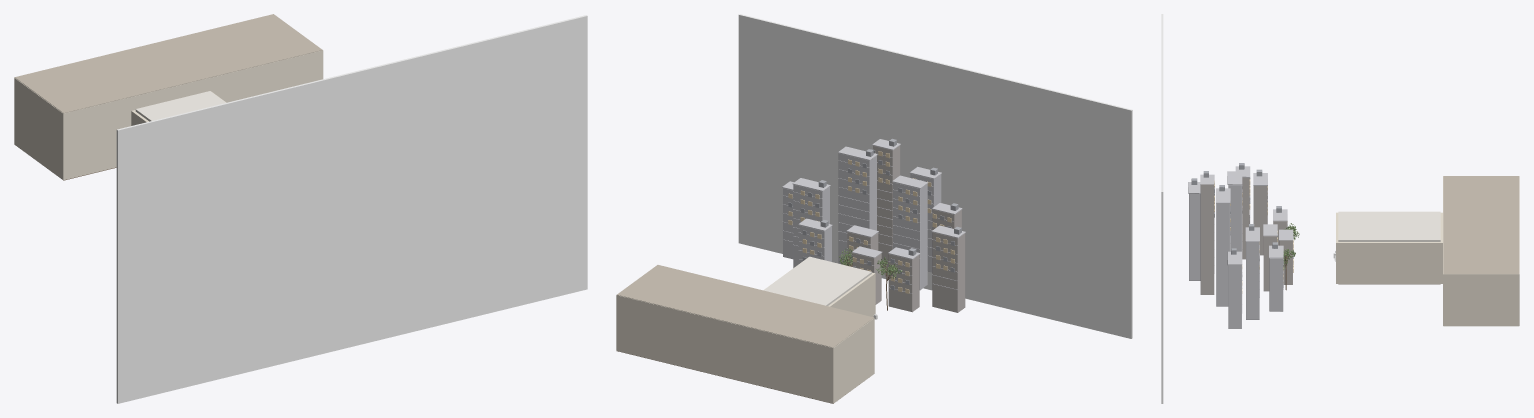
Rendered from room.glb.
The picture shows the model from 3 angles, left to right: view 1: azimuth 30°, elevation 25°; view 2: azimuth 150°, elevation 25°; view 3: azimuth 270°, elevation 25°; orthographic projection. The views are drawn at different scales.
Parts seen in each view (by area): view 1: outside, hall, p4; view 2: outside, hall, p4, p2; view 3: outside, hall, p5, p4.
Boxes of the visible parts, left/top/right/bottom form: outside: left=116, top=15, right=587, bottom=403; hall: left=14, top=14, right=323, bottom=180; p4: left=135, top=91, right=225, bottom=121; outside: left=738, top=14, right=1132, bottom=338; hall: left=616, top=265, right=874, bottom=403; p4: left=764, top=256, right=871, bottom=305; p2: left=828, top=273, right=875, bottom=317; outside: left=1161, top=14, right=1299, bottom=403; hall: left=1443, top=176, right=1519, bottom=326; p5: left=1336, top=242, right=1442, bottom=283; p4: left=1338, top=211, right=1440, bottom=241.
Size of the model in its own units: 21.4 by 11.9 by 18.22.
